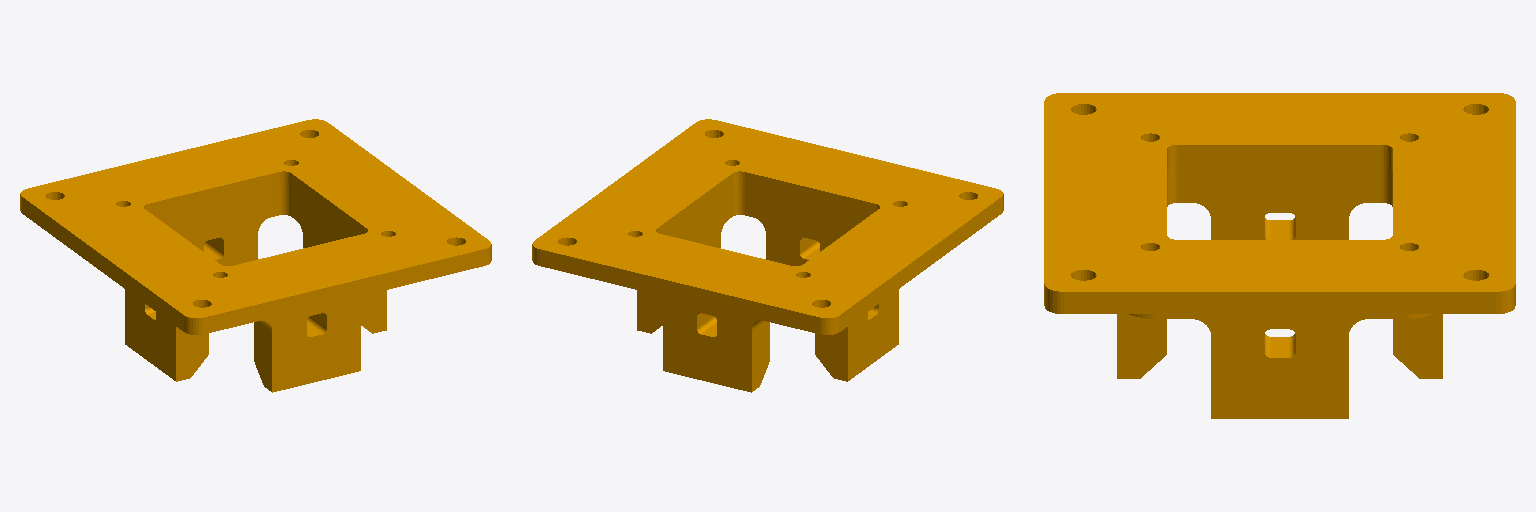
URDF robot description (dock_female):
<?xml version="1.0"?>
<!-- Female dock (FemaleAssembly of EndEffectorAssembly_v3 in Fusion "ArmAssem-copy"). Static obstacle,
     NOT part of the arm. Frame = EE3_DockBasePlate:1 part frame. Lengths m.
     Docked pose, in the arm URDF, of this frame relative to link EndEffectorAssembly_v3_N
     (world-aligned frames, CAD zero pose):
       EndEffectorAssembly_v3_1: xyz="0.000682593492 -0.00219814401 0.0523494243" rpy="-0.000658808122 0.0439345587 -1.28470452" (rpy is world-relative)
       EndEffectorAssembly_v3_2: xyz="-2.09228589e-11 1.37687084e-12 -0.0524" rpy="3.14159265 3.79208276e-10 -0.390706101" (rpy is world-relative)
-->
<robot name="dock_female">
  <link name="dock_female">
    <inertial>
      <origin xyz="0 0 -0.0217308786" rpy="0 0 0"/>
      <mass value="0.395940186"/>
      <inertia ixx="0.000489630531" ixy="0" ixz="0" iyy="0.000489630531" iyz="0" izz="0.000858154376"/>
    </inertial>
    <visual name="FemaleAssembly_1__EE3_DockBasePlate_1">
      <origin xyz="0 0 0" rpy="0 0 0"/>
      <geometry><mesh filename="package://terra_arm_description/meshes/EE3_DockBasePlate.stl" scale="0.001 0.001 0.001"/></geometry>
    </visual>
    <collision name="FemaleAssembly_1__EE3_DockBasePlate_1">
      <origin xyz="0 0 0" rpy="0 0 0"/>
      <geometry><mesh filename="package://terra_arm_description/meshes/EE3_DockBasePlate.stl" scale="0.001 0.001 0.001"/></geometry>
    </collision>
    <visual name="FemaleAssembly_1__EE3_DockWall_1">
      <origin xyz="0 0.0312 -0.03755" rpy="-1.57079633 0 0"/>
      <geometry><mesh filename="package://terra_arm_description/meshes/EE3_DockWall.stl" scale="0.001 0.001 0.001"/></geometry>
    </visual>
    <collision name="FemaleAssembly_1__EE3_DockWall_1">
      <origin xyz="0 0.0312 -0.03755" rpy="-1.57079633 0 0"/>
      <geometry><mesh filename="package://terra_arm_description/meshes/EE3_DockWall.stl" scale="0.001 0.001 0.001"/></geometry>
    </collision>
  </link>
</robot>

--- Facts derived from the render (not from the file) ---
The picture shows the robot from 3 angles, left to right: view 1: azimuth 30°, elevation 25°; view 2: azimuth 150°, elevation 25°; view 3: azimuth 270°, elevation 25°; orthographic projection.
Robot: dock_female — 1 links, 0 joints (none); root link dock_female; default pose: every joint at zero.
Links seen in each view (by area): view 1: dock_female; view 2: dock_female; view 3: dock_female.
Link boxes in pixels (<box>): dock_female: <box>20,119,491,392</box>; dock_female: <box>532,119,1003,392</box>; dock_female: <box>1044,93,1515,418</box>.
Size in the robot's own frame: 0.12 by 0.12 by 0.0444 metres.
Meshes: 2 distinct files referenced, 2 mesh visuals loaded (2 binary STL).
